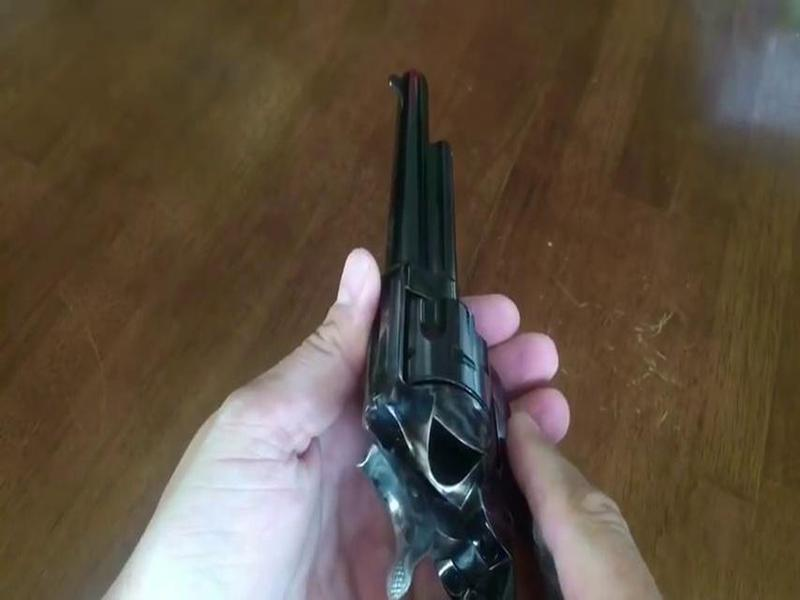Revolver: (316, 73, 563, 600)
